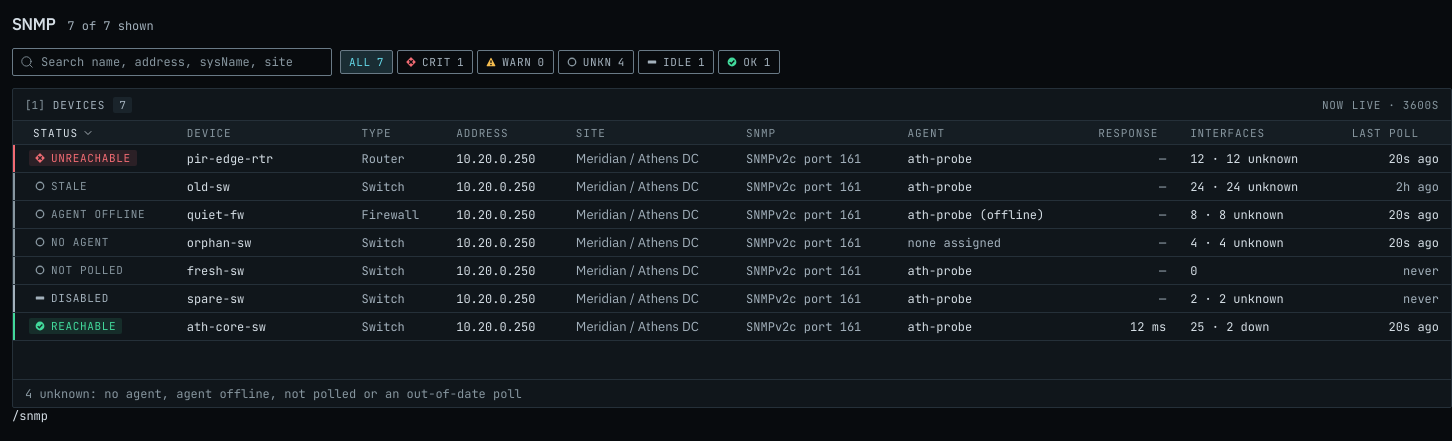
Test case: the query › searches with a pause, and keeps the search in the URL
The image size is (1452, 441).
In the search field named "Search devices": (172, 62) [12,48,332,76], type "core"
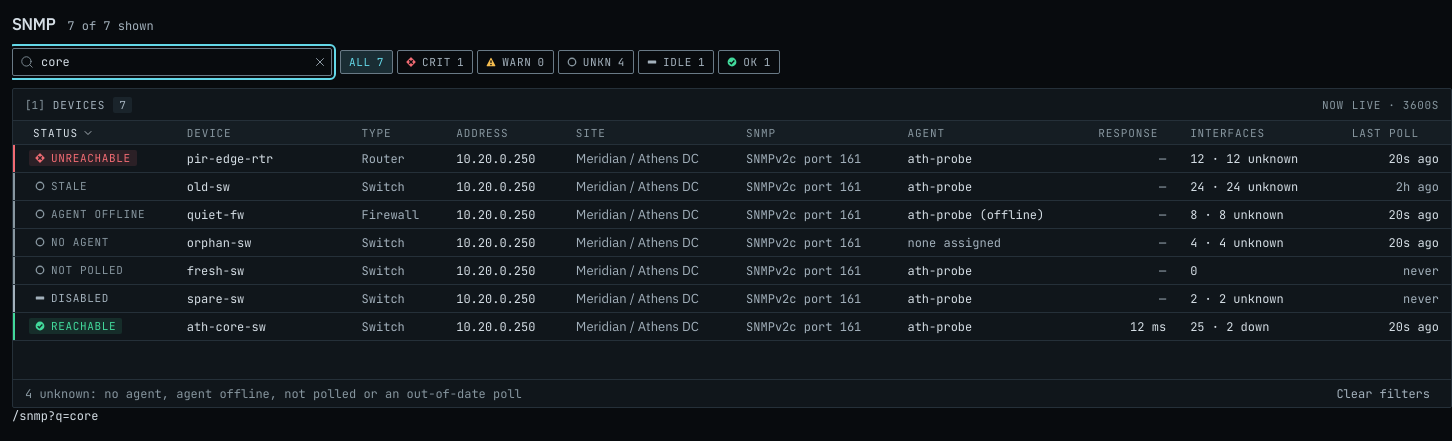
Expected: the text named "location" reads "/snmp?q=core", [12,408,98,424]
